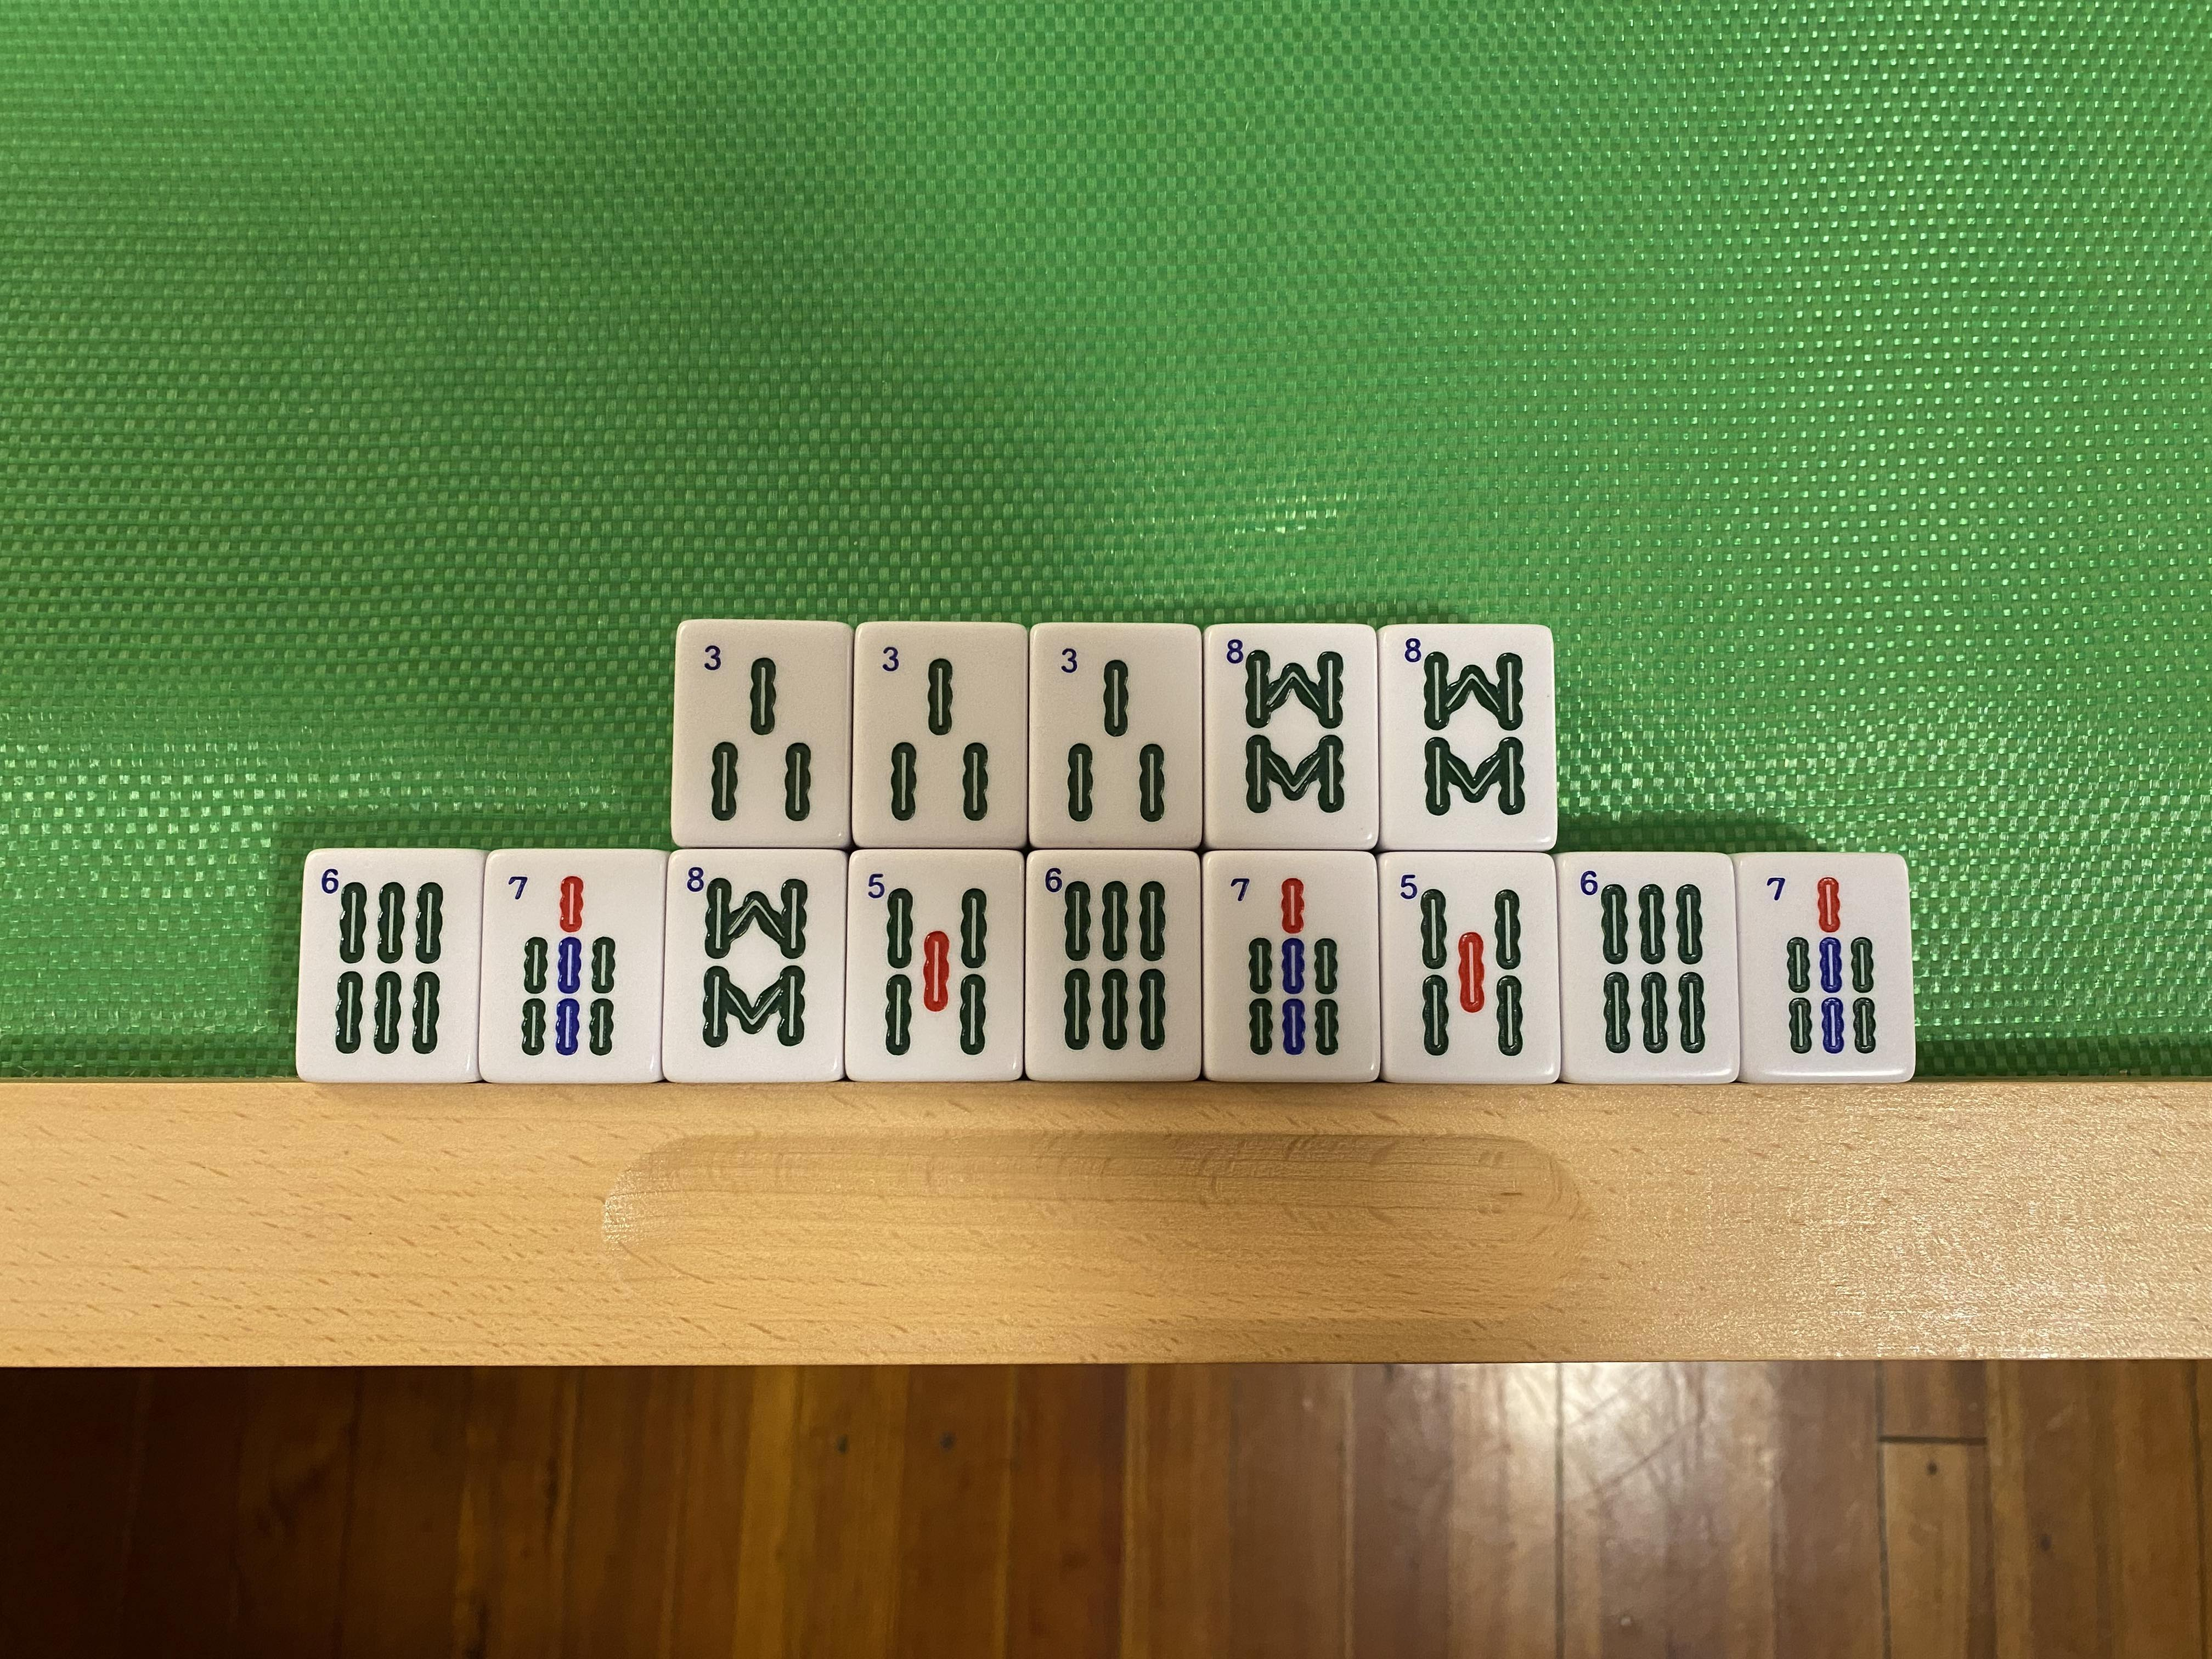bamboo-eight: (667, 856, 843, 1079), (1385, 629, 1552, 847), (1207, 629, 1371, 840)
bamboo-five: (850, 854, 1019, 1079), (1385, 857, 1550, 1079)
bamboo-seven: (479, 852, 660, 1079), (1205, 854, 1374, 1080), (1745, 859, 1905, 1080)
bamboo-six: (298, 852, 474, 1080), (1029, 856, 1198, 1077), (1566, 856, 1731, 1079)
bamboo-three: (853, 626, 1026, 843), (676, 629, 848, 843), (1031, 627, 1197, 843)
